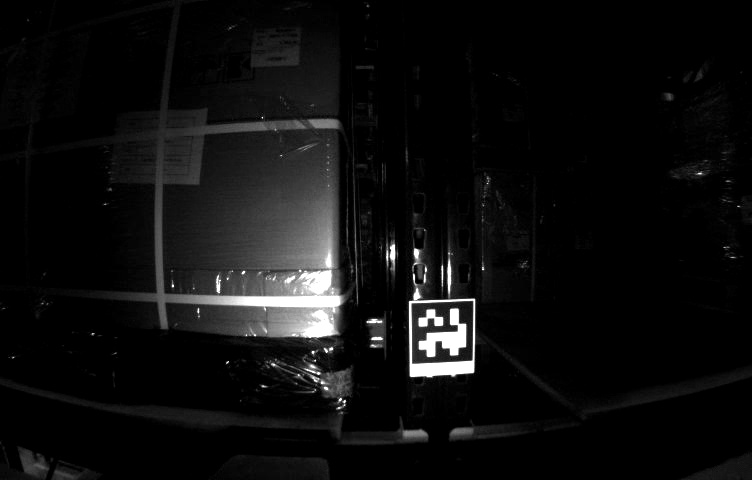True Barcode: (255, 28, 299, 65)
